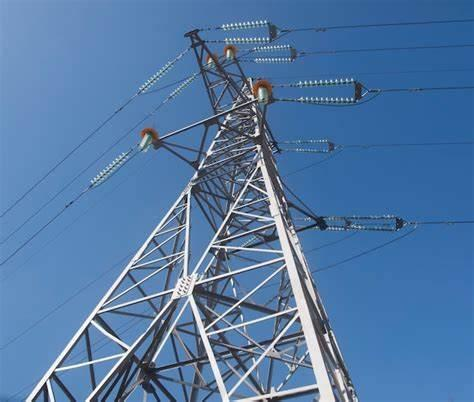power_tower: (23, 16, 384, 402)
